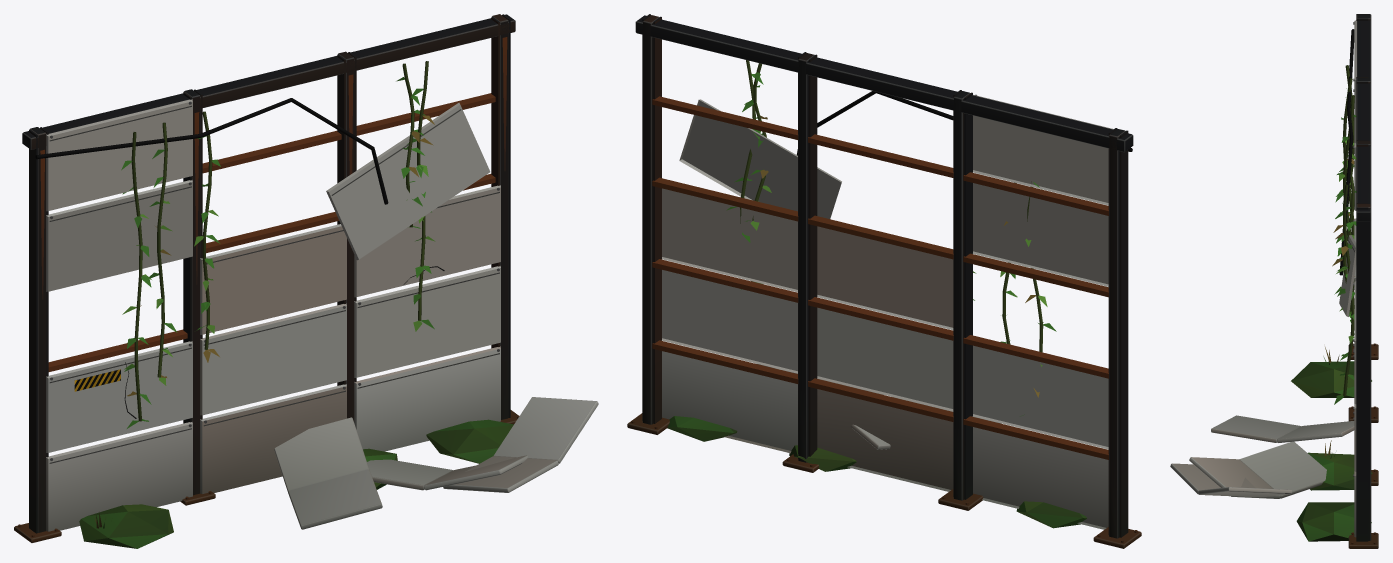
The model's file is collapsed_panel_wall.glb.
The picture shows the model from 3 angles, left to right: view 1: azimuth 30°, elevation 25°; view 2: azimuth 150°, elevation 25°; view 3: azimuth 270°, elevation 25°; orthographic projection. The views are drawn at different scales.
Parts seen in each view (by area): view 1: Mesh; view 2: Mesh; view 3: Mesh.
Part boxes in pixels (x1,y1,x2,y2): Mesh: (14,14,598,548); Mesh: (627,14,1141,548); Mesh: (1170,14,1378,548).
Size of the model in its own units: 6.44 by 5.1 by 2.8.
